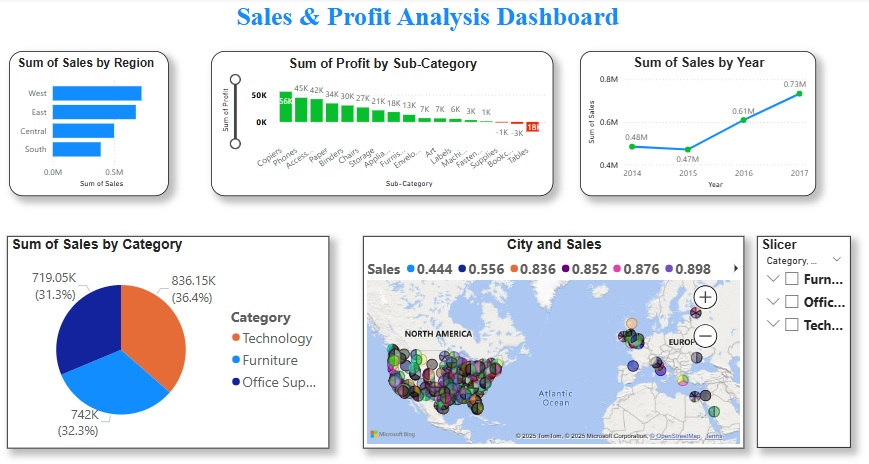

The page's visual inventory and layout, read from the dashboard file:
{"tool":"powerbi","page":{"name":"Page 1","canvas":[1280,720],"ordinal":0},"visuals":[{"type":"barChart","fields":{"Y":["Sum(Sample - Superstore.Sales)"],"Category":["Sample - Superstore.Region"]},"box":[27.1,75.7,230,208.6],"z":0},{"type":"columnChart","fields":{"Category":["Sample - Superstore.Sub-Category"],"Y":["Sum(Sample - Superstore.Profit)"]},"box":[318.6,75.7,492.9,208.6],"z":1000},{"type":"lineChart","fields":{"Y":["Sum(Sample - Superstore.Sales)"],"Category":["Sample - Superstore.Order Date.Variation.Date Hierarchy.Year","Sample - Superstore.Order Date.Variation.Date Hierarchy.Quarter","Sample - Superstore.Order Date.Variation.Date Hierarchy.Month","Sample - Superstore.Order Date.Variation.Date Hierarchy.Day"]},"box":[850,75.7,340,208.6],"z":2000},{"type":"pieChart","fields":{"Y":["Sum(Sample - Superstore.Sales)"],"Category":["Sample - Superstore.Category"]},"box":[24.3,342.9,464.3,305.7],"z":2001},{"type":"map","fields":{"Category":["Sample - Superstore.City"],"Series":["Sample - Superstore.Sales"]},"box":[537.1,342.9,548.6,305.7],"z":2002},{"type":"slicer","title":"Slicer","fields":{"Values":["Sample - Superstore.Category","Sample - Superstore.Sub-Category","Sample - Superstore.Order Date"]},"box":[1105,343.3,135,305],"z":2003},{"type":"textbox","box":[0,0,1260,57.1],"z":2004}]}

Visuals, with their boxes on the page's 1280x720 design canvas (x1, y1, x2, y2). These are canvas units, not pixel positions in the 869x464 screenshot, which may show the page scaled, cropped or inside an application window:
barChart - Sum(Sample - Superstore.Sales) x Sample - Superstore.Region: pyautogui.locateOnScreen(27, 76, 257, 284)
columnChart - Sample - Superstore.Sub-Category x Sum(Sample - Superstore.Profit): pyautogui.locateOnScreen(319, 76, 812, 284)
lineChart - Sum(Sample - Superstore.Sales) x Sample - Superstore.Order Date.Variation.Date Hierarchy.Year: pyautogui.locateOnScreen(850, 76, 1190, 284)
pieChart - Sum(Sample - Superstore.Sales) x Sample - Superstore.Category: pyautogui.locateOnScreen(24, 343, 489, 649)
map - Sample - Superstore.City x Sample - Superstore.Sales: pyautogui.locateOnScreen(537, 343, 1086, 649)
"Slicer" slicer: pyautogui.locateOnScreen(1105, 343, 1240, 648)
textbox: pyautogui.locateOnScreen(0, 0, 1260, 57)
